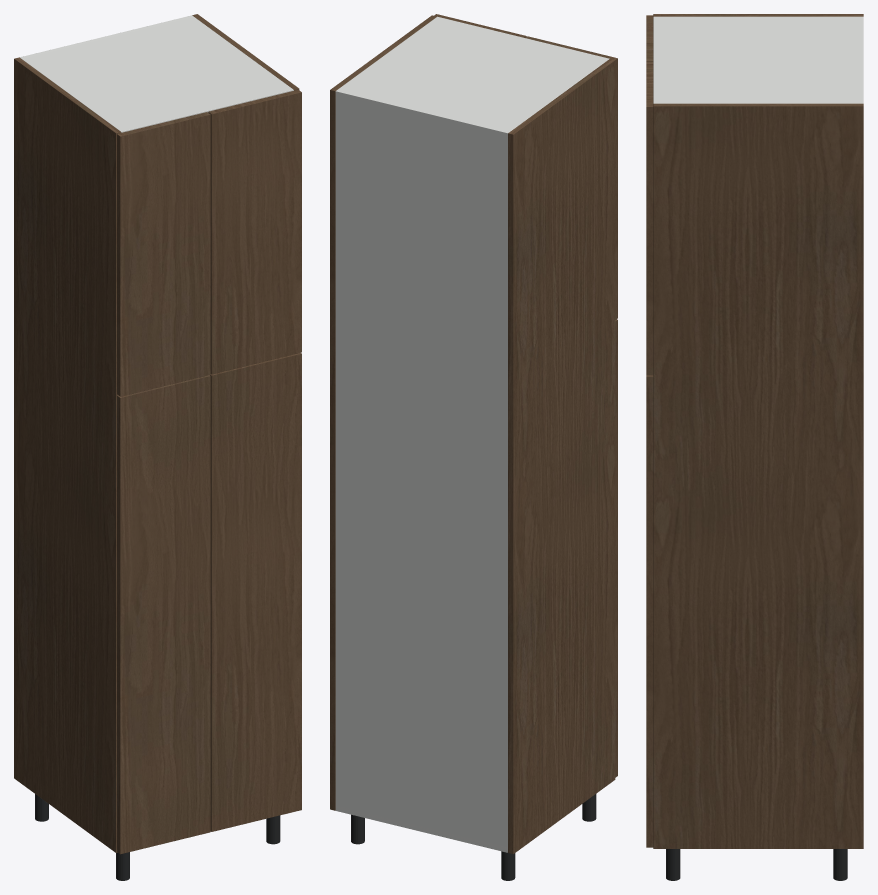
Rendered from oppein-pb-mso-pc2490.glb.
3 views of the same model, side by side, from view 1: azimuth 30°, elevation 25°; view 2: azimuth 150°, elevation 25°; view 3: azimuth 270°, elevation 25° (orthographic). The views are drawn at different scales.
Parts seen in each view (by area): view 1: Cabinet side, Door, Door.001, Door.002, Door.003, Cabinet top, Cabinet side.001; view 2: Cabinet back, Cabinet side, Cabinet top, Cabinet side.001, Door, Door.002; view 3: Cabinet side.001, Cabinet top, Door.001, Door.003, Cabinet side, Adjustable foot.003, Adjustable foot.002.
Part boxes in pixels (x1,y1,x2,y2): Cabinet side: (14, 57, 121, 852); Door: (117, 375, 210, 854); Door.001: (210, 353, 301, 831); Door.002: (117, 112, 210, 396); Door.003: (208, 89, 301, 374); Cabinet top: (21, 16, 293, 132); Cabinet side.001: (192, 14, 299, 90); Cabinet back: (335, 89, 509, 852); Cabinet side: (508, 59, 615, 854); Cabinet top: (336, 16, 609, 131); Cabinet side.001: (330, 15, 436, 810); Door: (615, 319, 617, 777); Door.002: (525, 36, 617, 319); Cabinet side.001: (653, 103, 863, 848); Cabinet top: (653, 16, 859, 103); Door.001: (646, 375, 653, 847); Door.003: (646, 61, 653, 375); Cabinet side: (653, 14, 863, 16); Adjustable foot.003: (666, 849, 680, 880); Adjustable foot.002: (833, 849, 847, 880).
Size of the model in its own units: 0.6096 by 2.4 by 0.6064.
Materials: 3 (1 with a texture image).
